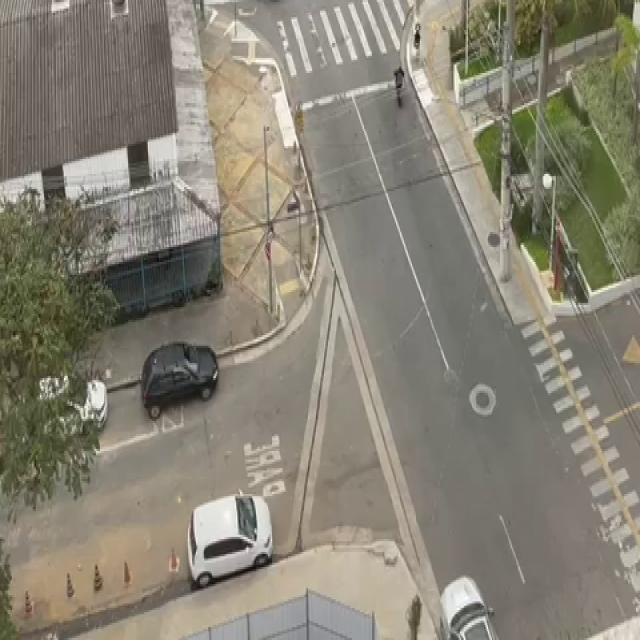car: (182, 487, 278, 591), (138, 336, 221, 426), (435, 572, 501, 640)
motorbike: (388, 57, 411, 115)
